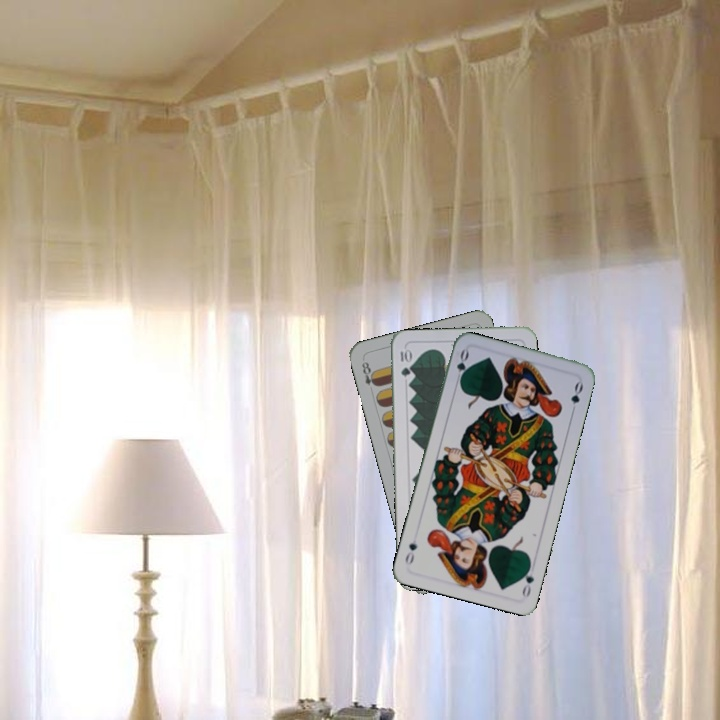E8: (358, 358, 380, 389)
G10: (396, 345, 412, 379)
GO: (452, 346, 472, 387), (518, 558, 537, 600)
